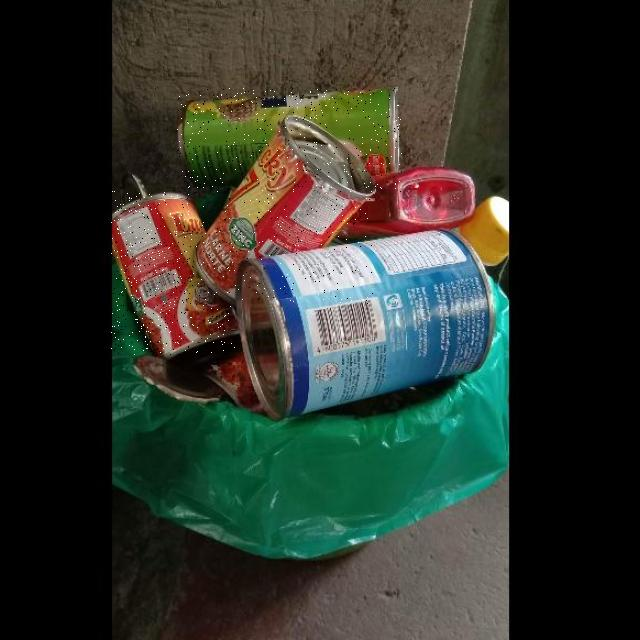metal: (236, 228, 495, 421), (193, 114, 374, 304), (178, 88, 402, 194), (111, 191, 244, 355)
